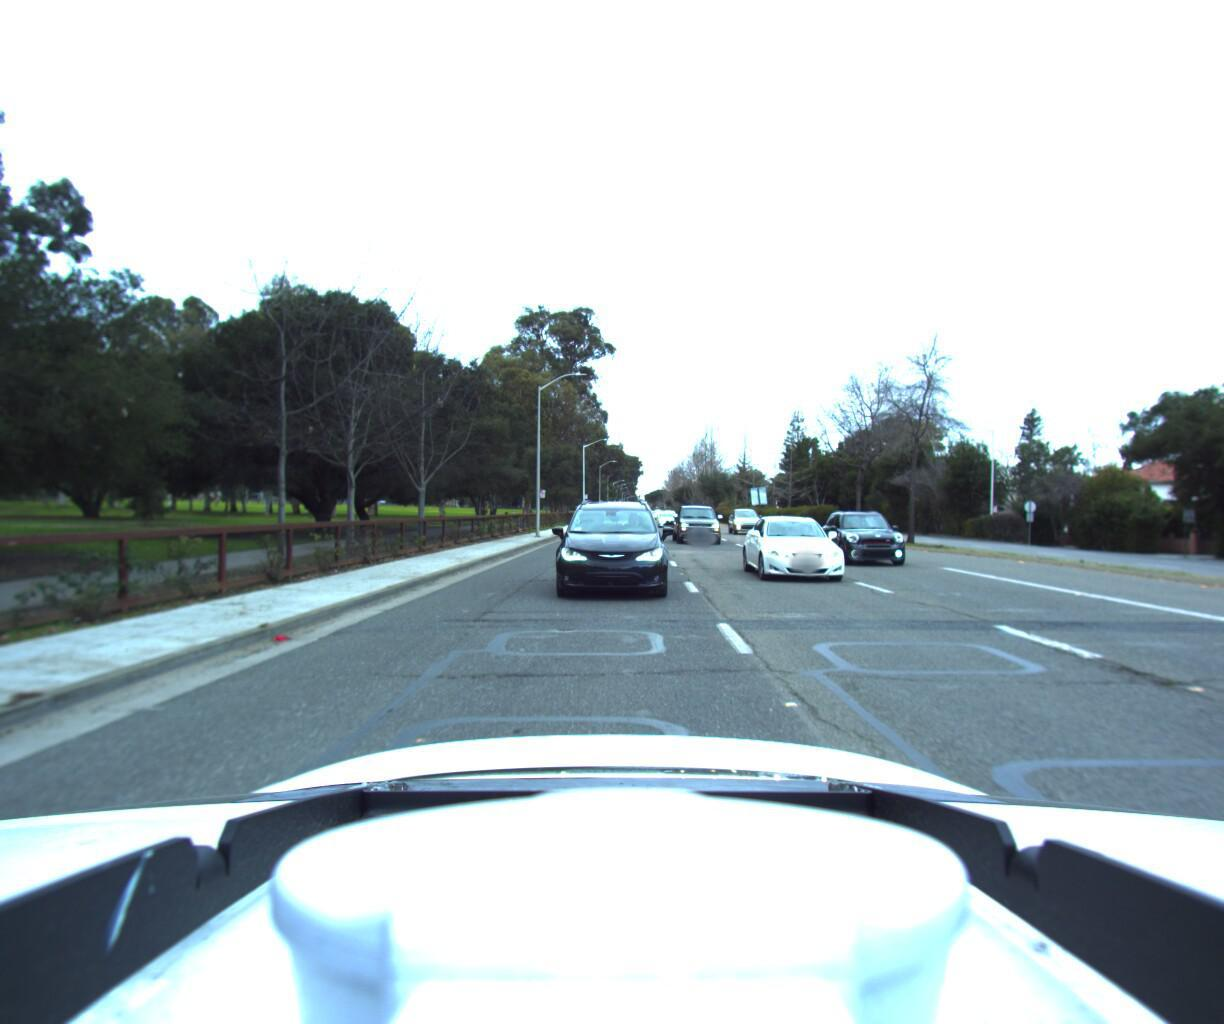car: (554, 501, 666, 604), (744, 514, 870, 593), (821, 508, 935, 569), (673, 502, 727, 545), (727, 507, 767, 533), (657, 510, 680, 526)
